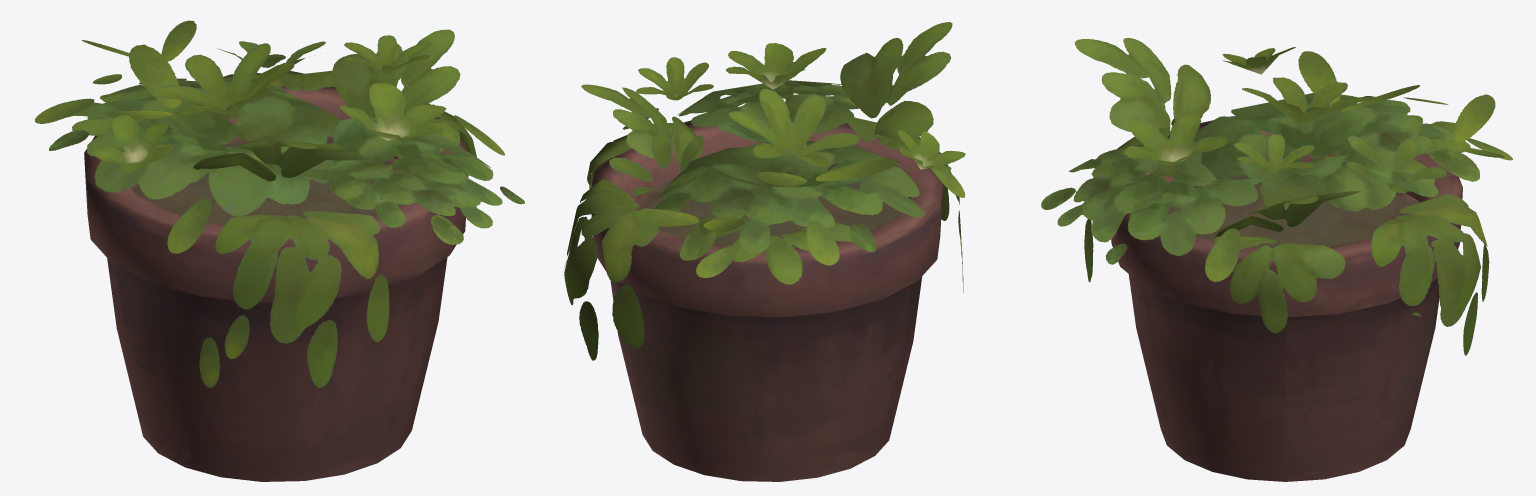
The model's file is Plant_3.glb.
3 renders of one model, left to right at view 1: azimuth 30°, elevation 25°; view 2: azimuth 150°, elevation 25°; view 3: azimuth 270°, elevation 25°, orthographic. The views are drawn at different scales.
Parts seen in each view (by area): view 1: PlantPotted_0_D_LOD0; view 2: PlantPotted_0_D_LOD0; view 3: PlantPotted_0_D_LOD0.
Boxes of the visible parts, x1,y1,x2,y2 form: PlantPotted_0_D_LOD0: [35, 20, 524, 481]; PlantPotted_0_D_LOD0: [564, 22, 965, 481]; PlantPotted_0_D_LOD0: [1041, 38, 1512, 481].
Size of the model in its own units: 0.2316 by 0.2057 by 0.2607.
Materials: 2 (2 with a texture image).
